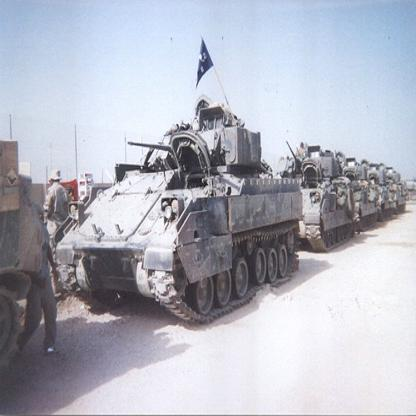Tank: (45, 107, 304, 323), (274, 141, 357, 256)
